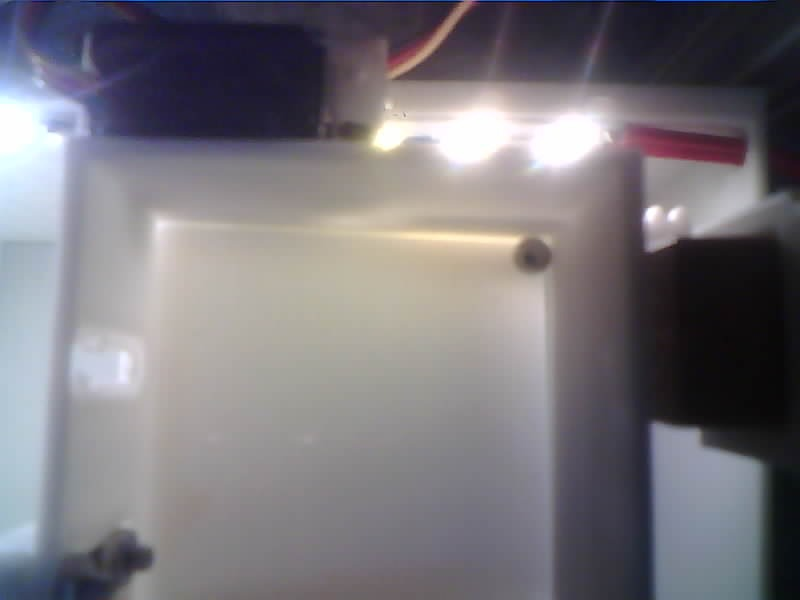Metal: (511, 236, 554, 275)
